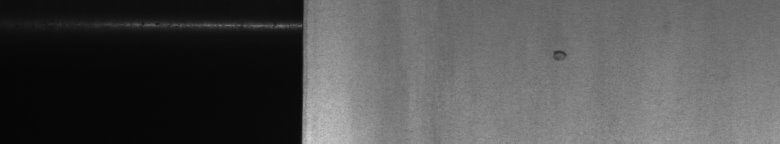fi: (546, 43, 568, 66)
